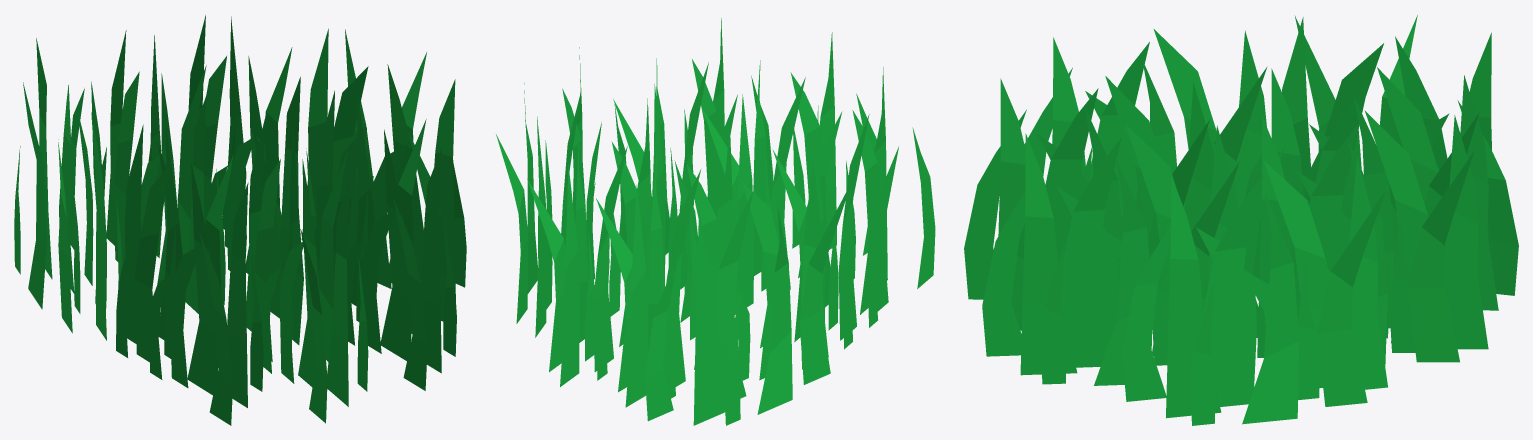
Rendered from Grass3ALOT.fbx.
3 views of the same model, side by side, from view 1: azimuth 30°, elevation 25°; view 2: azimuth 150°, elevation 25°; view 3: azimuth 270°, elevation 25° (orthographic). The views are drawn at different scales.
Visible parts, largest first — view 1: Plane.005, Plane.003, Plane.002, Plane.004, Plane.006, Plane.001, Plane.000; view 2: Plane.006, Plane.001, Plane.000, Plane.005, Plane.002, Plane.004, Plane.003; view 3: Plane.004, Plane.003, Plane.001, Plane.002, Plane.000, Plane.006, Plane.005.
Boxes of the visible parts, <box> form: Plane.005: <box>116,124,263,425</box>; Plane.003: <box>314,90,456,390</box>; Plane.002: <box>245,118,368,423</box>; Plane.004: <box>301,28,466,321</box>; Plane.006: <box>14,38,122,340</box>; Plane.001: <box>177,15,316,318</box>; Plane.000: <box>96,30,225,313</box>; Plane.006: <box>645,158,851,425</box>; Plane.001: <box>527,98,697,386</box>; Plane.000: <box>596,124,767,407</box>; Plane.005: <box>772,67,935,349</box>; Plane.002: <box>702,32,876,314</box>; Plane.004: <box>496,47,627,337</box>; Plane.003: <box>613,18,773,291</box>; Plane.004: <box>1122,156,1387,425</box>; Plane.003: <box>982,124,1239,385</box>; Plane.001: <box>1244,110,1488,366</box>; Plane.002: <box>964,76,1214,330</box>; Plane.000: <box>1244,67,1498,328</box>; Plane.006: <box>1282,15,1518,295</box>; Plane.005: <box>1024,29,1267,216</box>.
Size of the model in its own units: 114 by 67.46 by 139.
